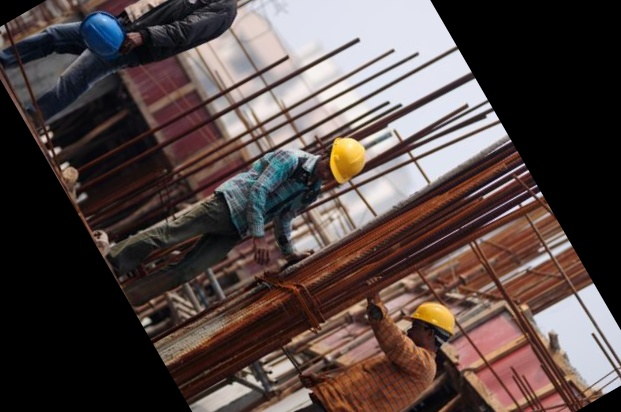NoJacket: (218, 138, 367, 253), (319, 298, 454, 412)
